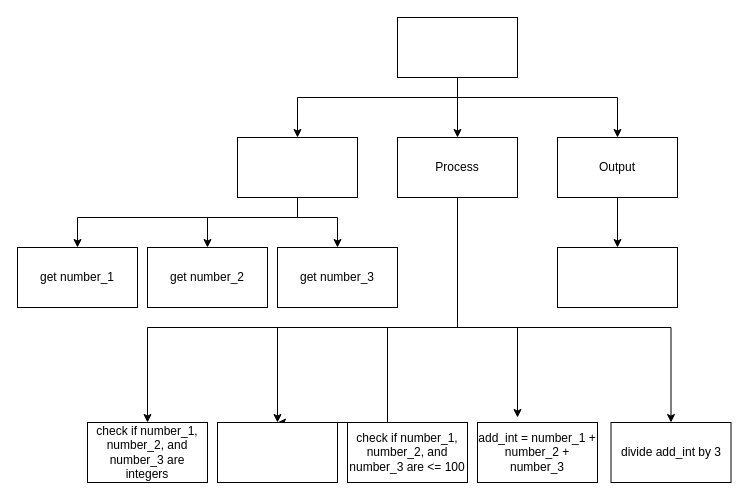
The diagram is 749 pixels wide and 500 high, and some of its shapes have lost their labels. Each missing label, with the centre of its shape:
check if number_1, number_2, and number_3 are >= 0: the point at 277,452
Guess the number: the point at 457,47
Input: the point at 297,167
Tell the user the average: the point at 617,277
